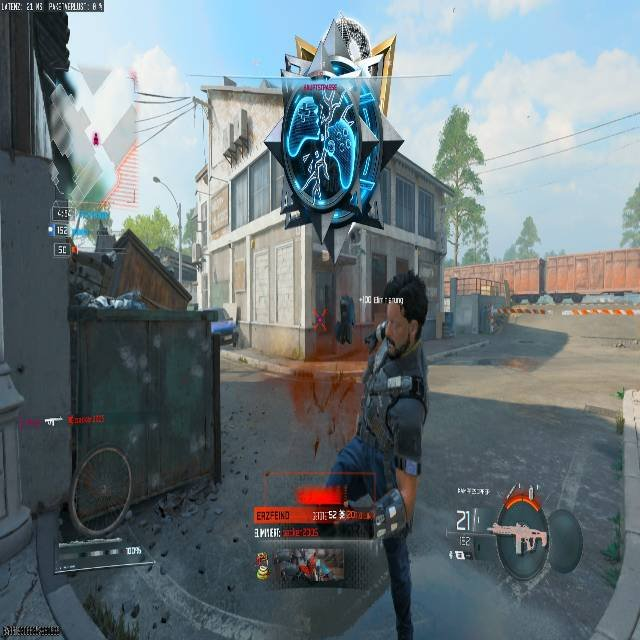player: (320, 264, 428, 550), (334, 301, 353, 346), (488, 306, 502, 334)
